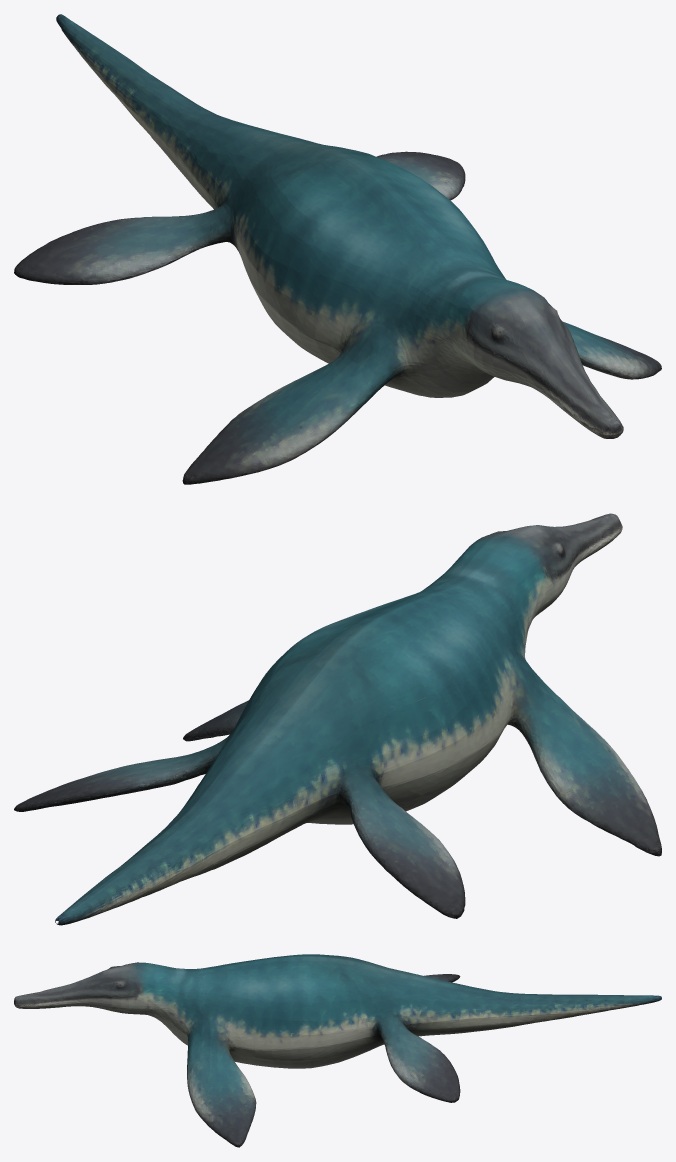
3 renders of one model, top to bottom at view 1: azimuth 30°, elevation 25°; view 2: azimuth 150°, elevation 25°; view 3: azimuth 270°, elevation 25°, orthographic. The views are drawn at different scales.
Parts seen in each view (by area): view 1: world; view 2: world; view 3: world.
Part boxes in pixels (bbox=[...]): world: bbox=[14, 14, 661, 484]; world: bbox=[14, 513, 661, 925]; world: bbox=[14, 954, 661, 1147].
Size of the model in its own units: 0.4945 by 0.2112 by 1.
Materials: 1 (1 with a texture image).
